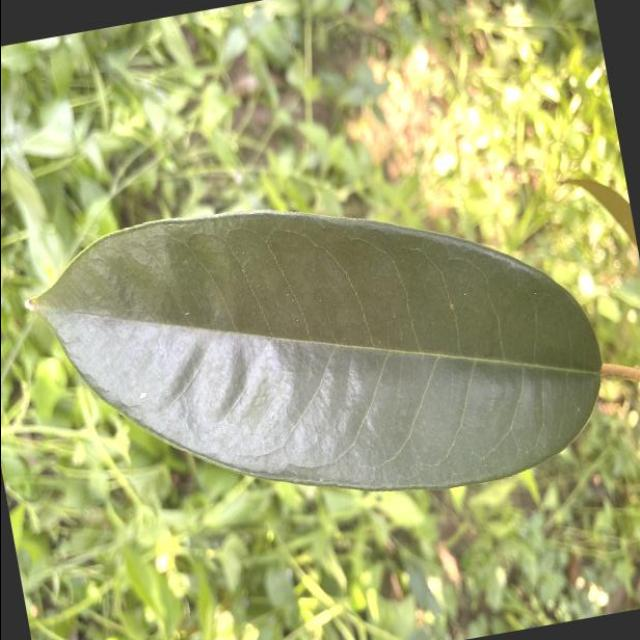No Disease: (5, 134, 635, 570)
